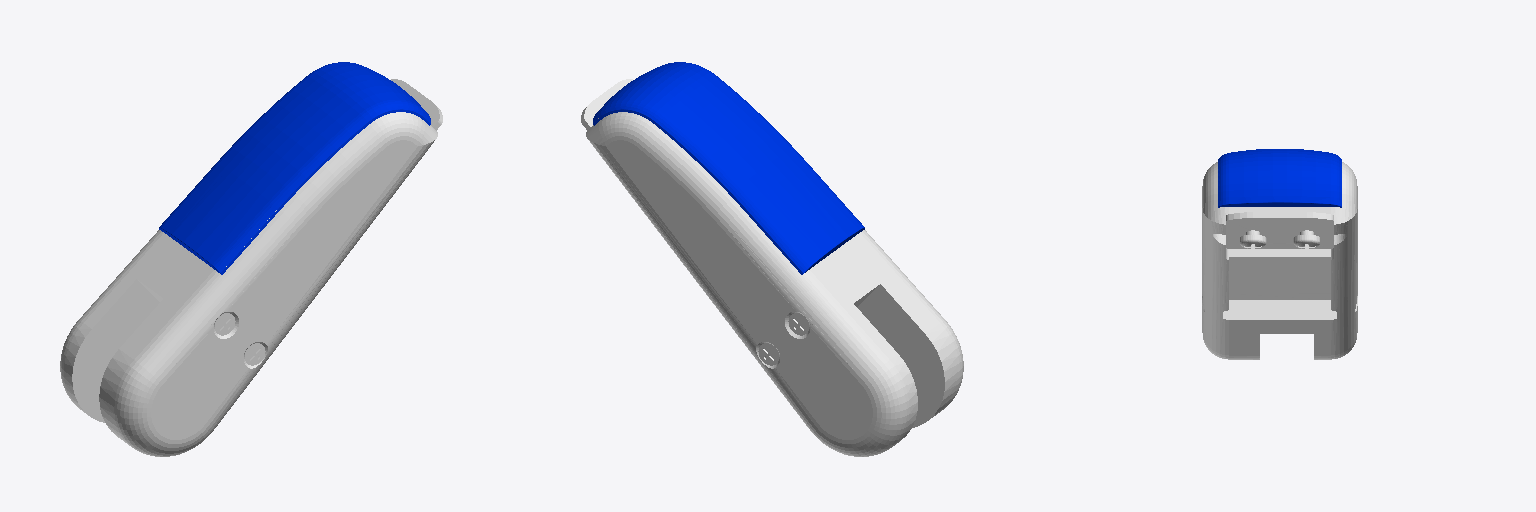
3 views of the same model, side by side, from view 1: azimuth 30°, elevation 25°; view 2: azimuth 150°, elevation 25°; view 3: azimuth 270°, elevation 25° (orthographic).
Parts seen in each view (by area): view 1: Bhand_Finger_Dist_Link_Fine; view 2: Bhand_Finger_Dist_Link_Fine; view 3: Bhand_Finger_Dist_Link_Fine.
Part boxes in pixels (x1,y1,x2,y2): Bhand_Finger_Dist_Link_Fine: (60,62,442,456); Bhand_Finger_Dist_Link_Fine: (581,62,963,456); Bhand_Finger_Dist_Link_Fine: (1202,149,1357,359).
Bounding box in the file's own units: 0.0572 × 0.0498 × 0.023.
2 materials, 1 textured.